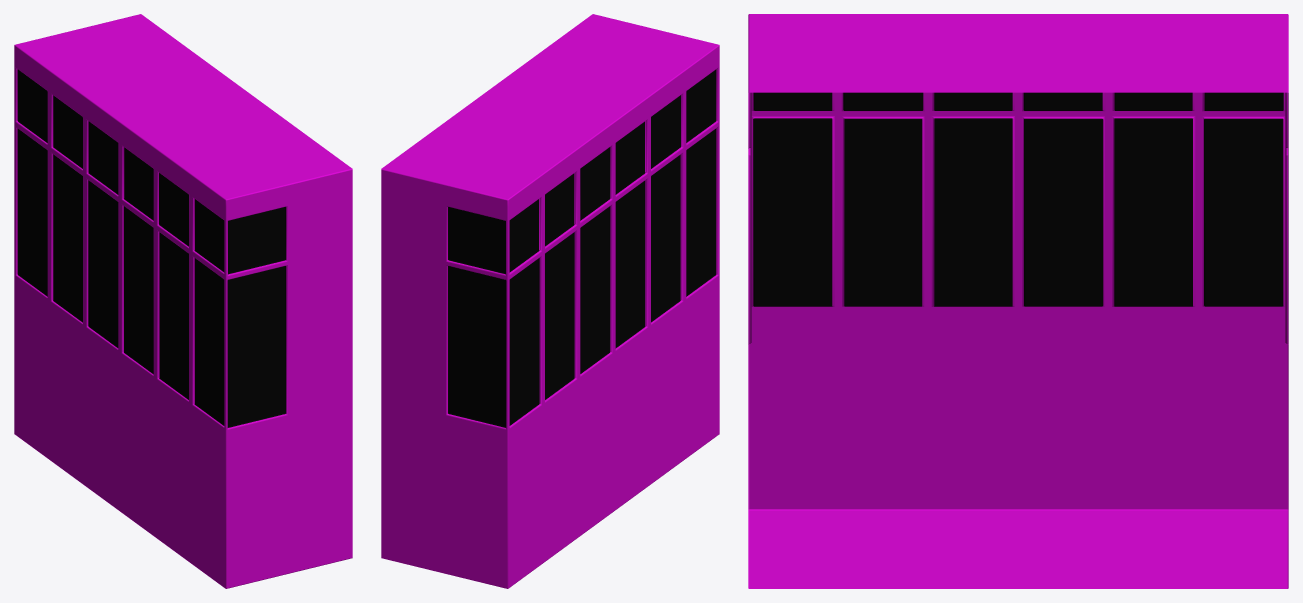
The model's file is balcon 5hi.fbx.
3 views of the same model, side by side, from view 1: azimuth 30°, elevation 25°; view 2: azimuth 150°, elevation 25°; view 3: azimuth 270°, elevation 25° (orthographic). The views are drawn at different scales.
Parts seen in each view (by area): view 1: hi; view 2: hi; view 3: hi.
Part boxes in pixels (x1=…): hi: x1=14, y1=14, x2=352, y2=588; hi: x1=381, y1=14, x2=719, y2=588; hi: x1=748, y1=14, x2=1288, y2=588.
Bounding box in the file's own units: 148 × 433 × 427.
